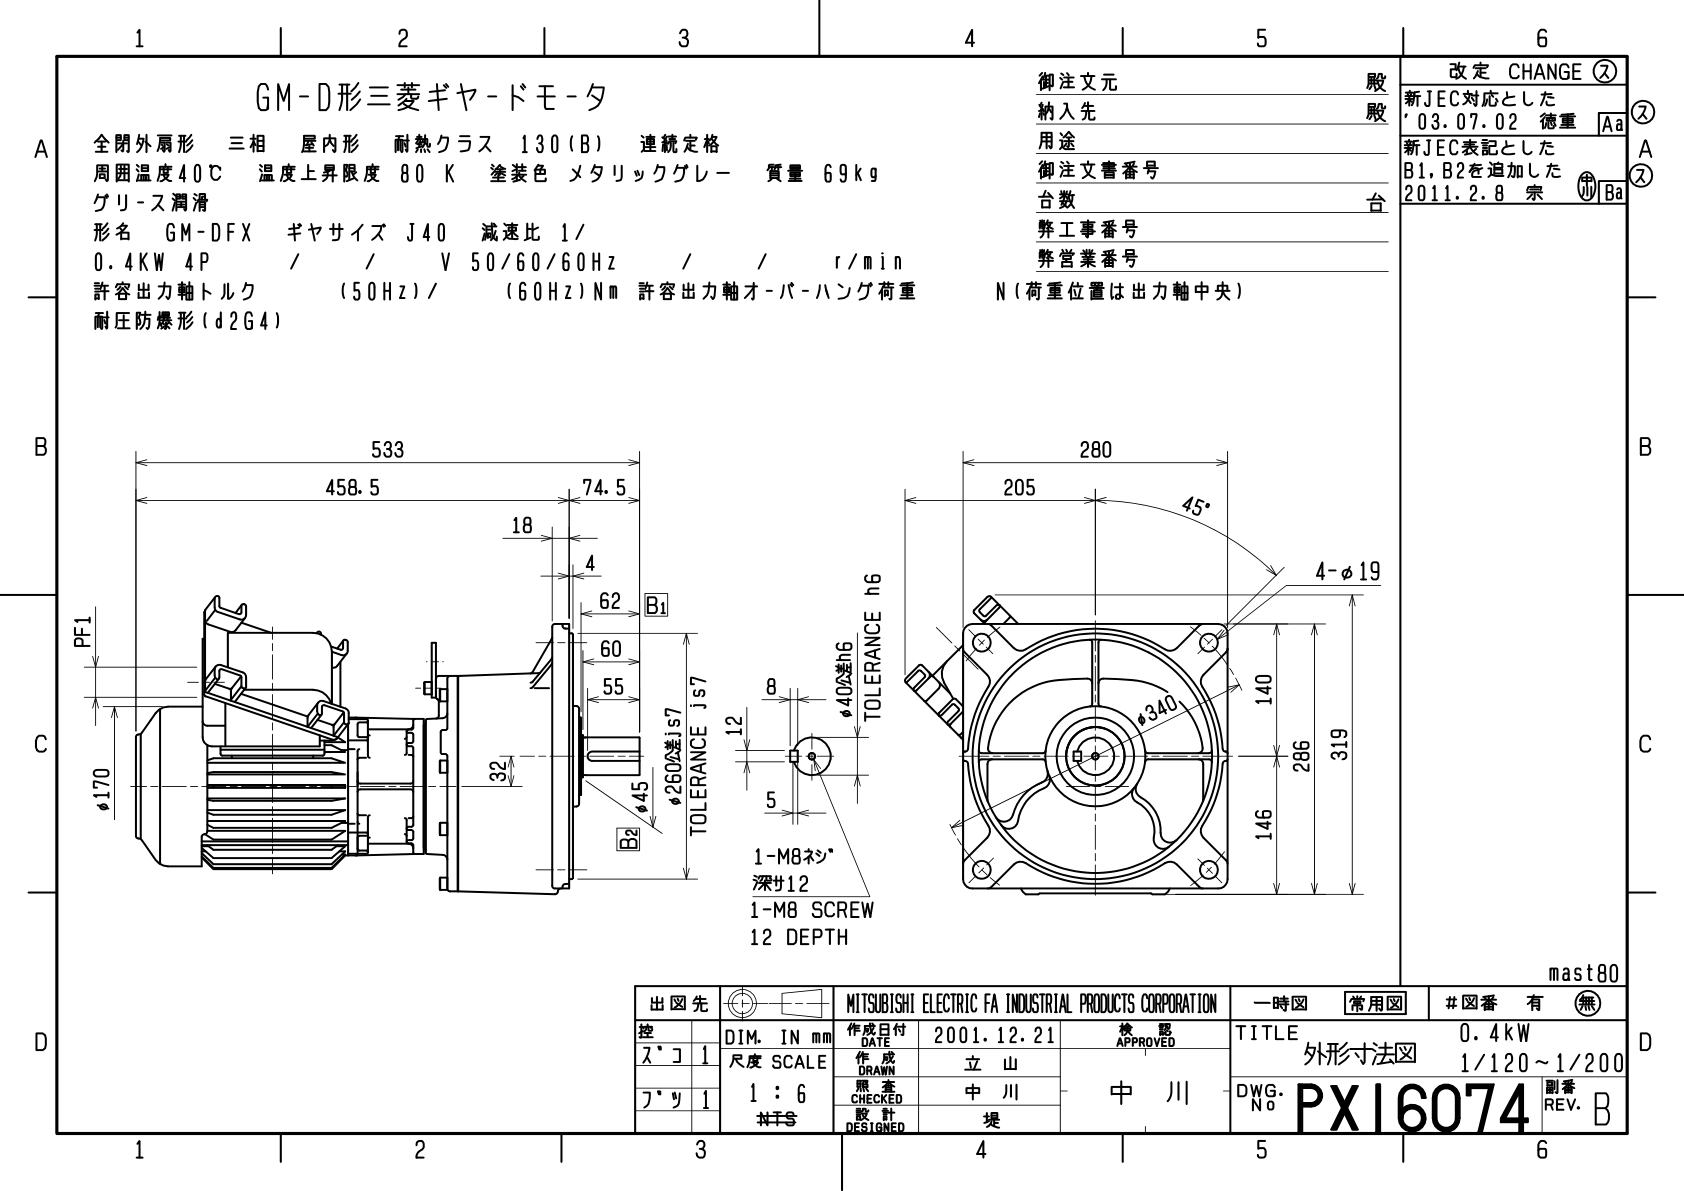GM_SP_屋内＿三相_フランジ: (61, 375, 1392, 962)
